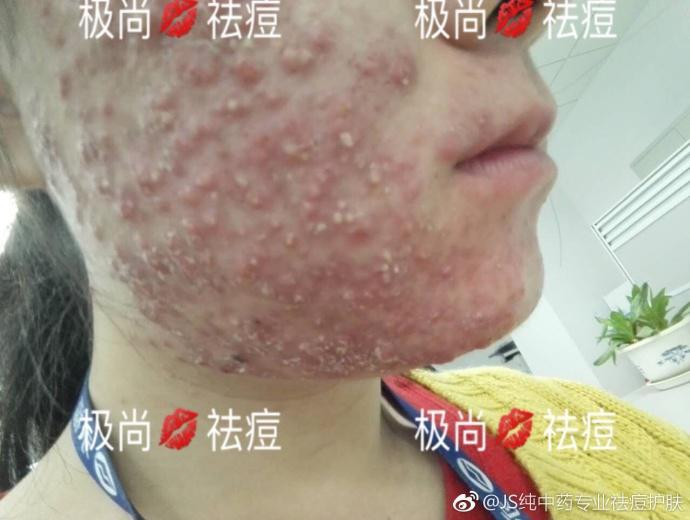fore: (42, 66, 93, 109), (356, 252, 397, 294), (166, 55, 212, 88), (216, 78, 250, 120), (209, 302, 249, 337), (135, 288, 173, 323), (318, 191, 355, 225), (82, 131, 117, 165), (292, 206, 327, 239), (84, 173, 117, 208), (156, 245, 191, 278), (171, 127, 206, 159), (136, 152, 172, 183), (346, 48, 391, 72), (214, 346, 250, 376), (199, 267, 232, 299), (184, 340, 216, 373), (290, 338, 324, 369), (292, 22, 325, 53), (296, 163, 330, 193), (82, 43, 118, 71), (334, 126, 367, 156), (338, 283, 363, 321), (147, 194, 181, 221), (225, 217, 253, 249), (244, 185, 277, 212), (303, 254, 333, 283), (247, 312, 278, 340), (147, 101, 179, 128), (177, 114, 222, 133), (421, 301, 451, 329), (256, 86, 288, 112), (333, 324, 365, 350), (250, 131, 275, 164), (190, 206, 214, 240), (431, 135, 460, 163), (46, 27, 75, 55), (121, 186, 145, 219), (270, 221, 295, 252), (393, 306, 414, 340), (424, 345, 455, 368), (289, 54, 318, 78), (347, 219, 373, 244), (85, 220, 110, 246), (467, 332, 501, 351), (220, 169, 243, 197), (437, 243, 460, 271), (394, 216, 419, 241), (276, 282, 304, 304), (335, 98, 360, 122), (179, 166, 200, 194), (233, 58, 258, 81), (307, 88, 337, 107), (246, 250, 267, 277), (119, 254, 145, 275), (376, 343, 402, 364), (477, 294, 498, 319), (409, 248, 435, 268), (365, 168, 393, 186), (279, 129, 300, 150), (473, 109, 493, 127), (36, 0, 53, 21), (306, 305, 328, 321), (386, 67, 407, 83), (91, 101, 112, 115)
